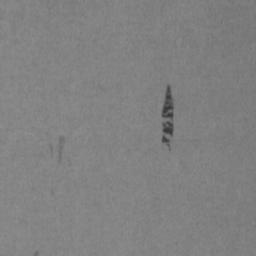Secondary rust skin: (161, 86, 173, 149)
